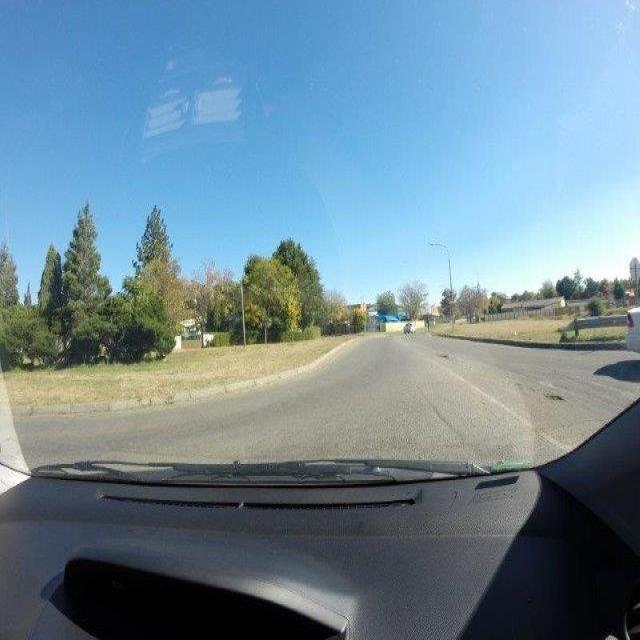lubang: (533, 380, 571, 407), (437, 348, 450, 361)
